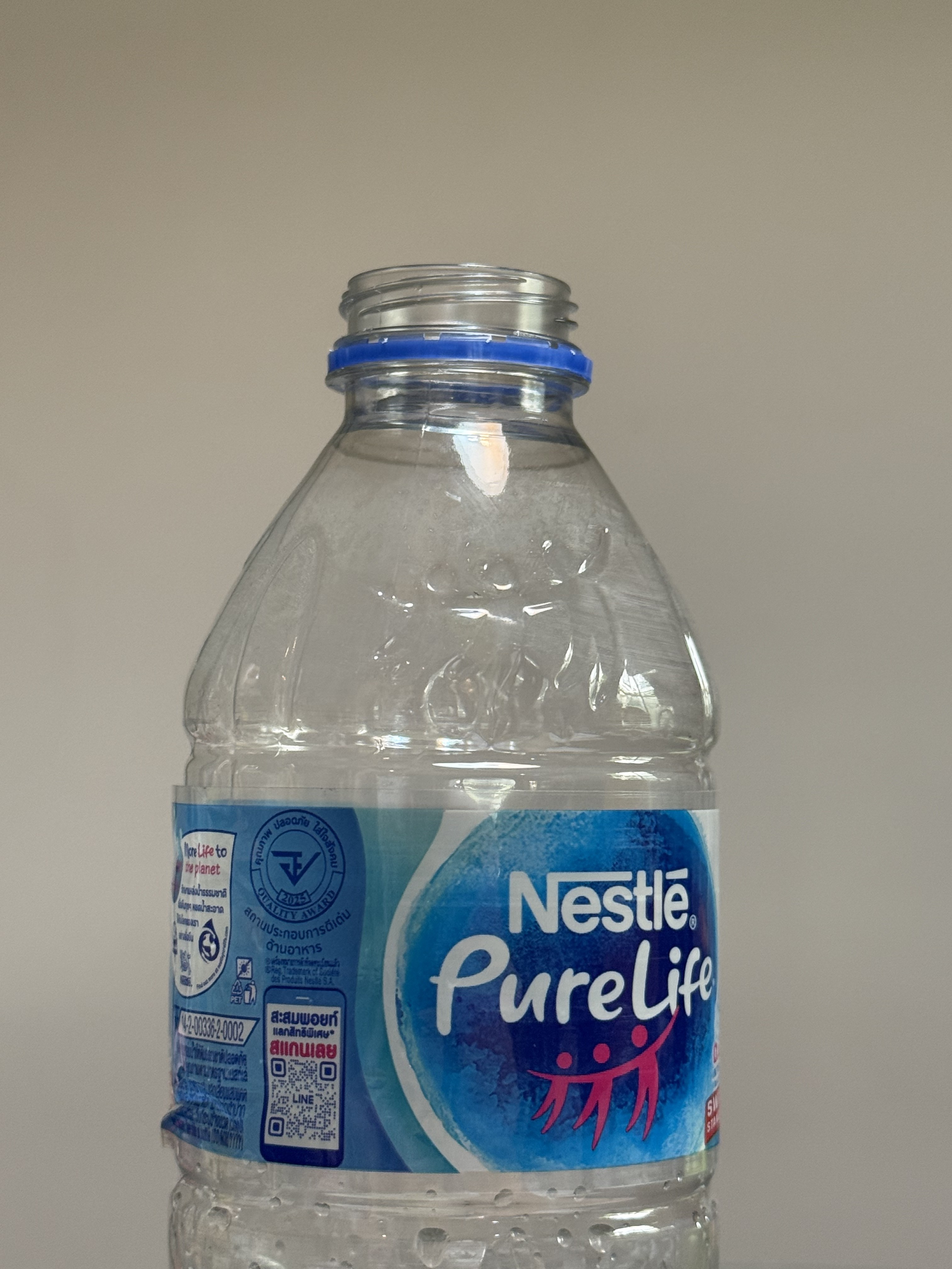no_cap: (322, 255, 595, 387)
